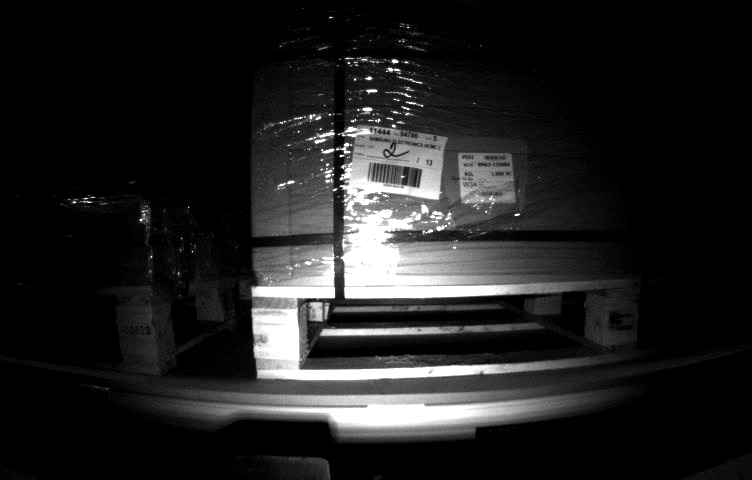True Barcode: (455, 149, 516, 201)
